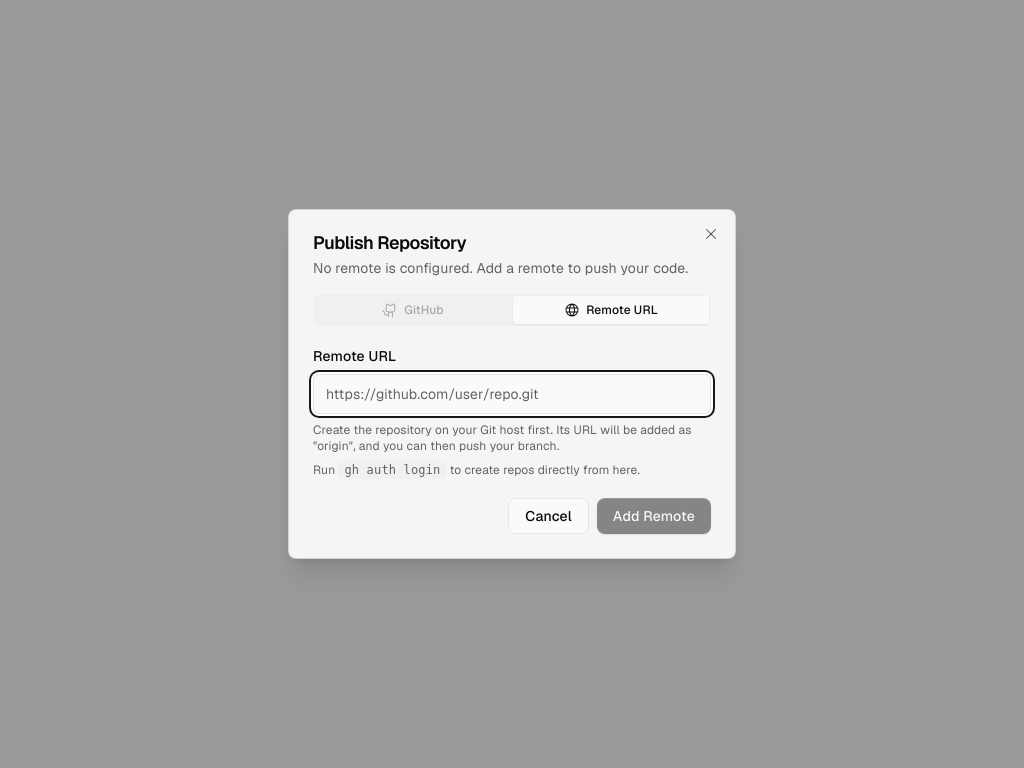
Test case: PublishRepoDialog › shows submit errors in an error callout
The image size is (1024, 768).
In the field labelled "Remote URL": (512, 394) [313,374,711,414], type "https://example.com/repo.git"
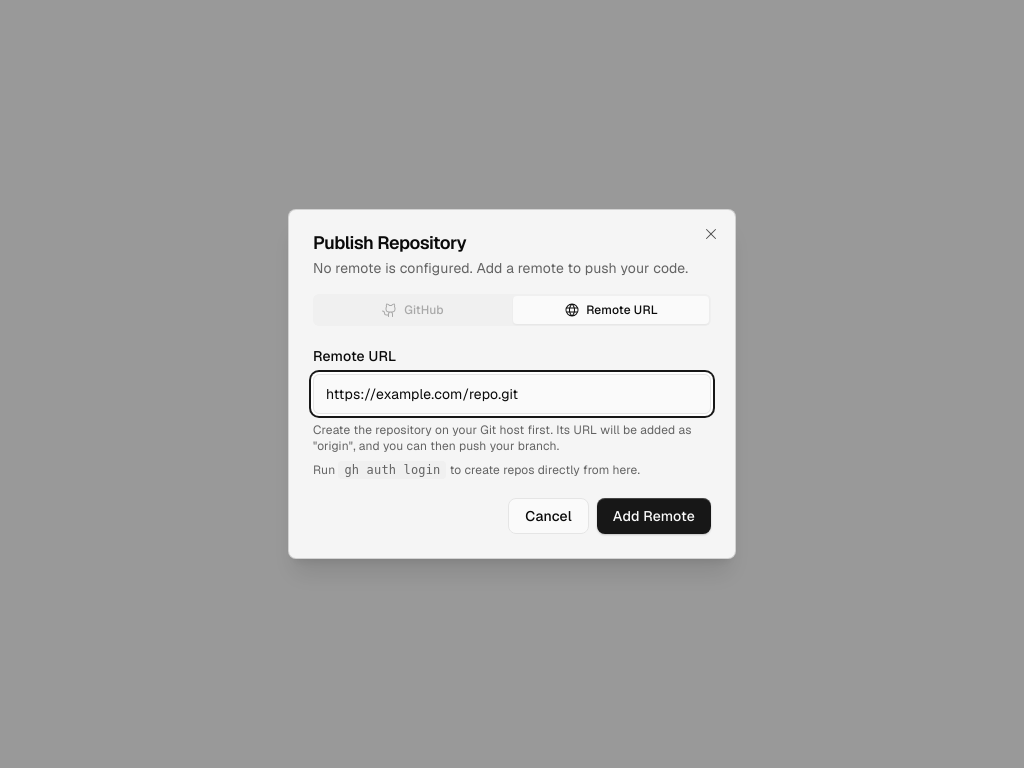
Click the button "Add Remote": (654, 516) [597,498,711,534]
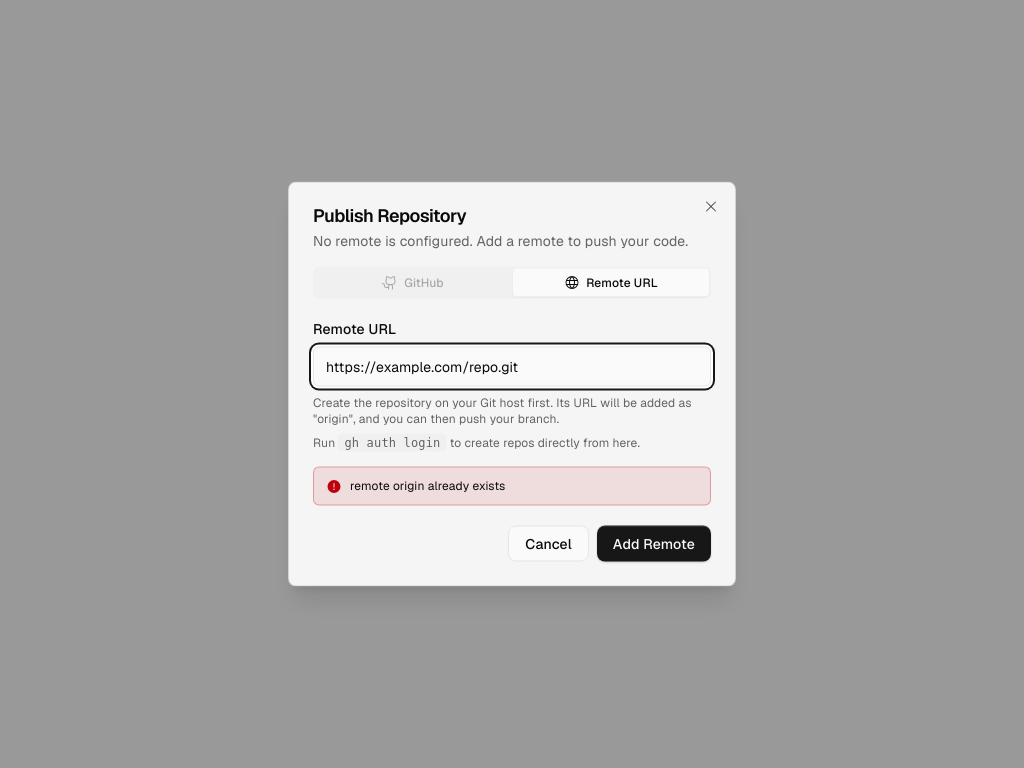
Expected: the message reads "remote origin already exists", [350,478,506,494]
